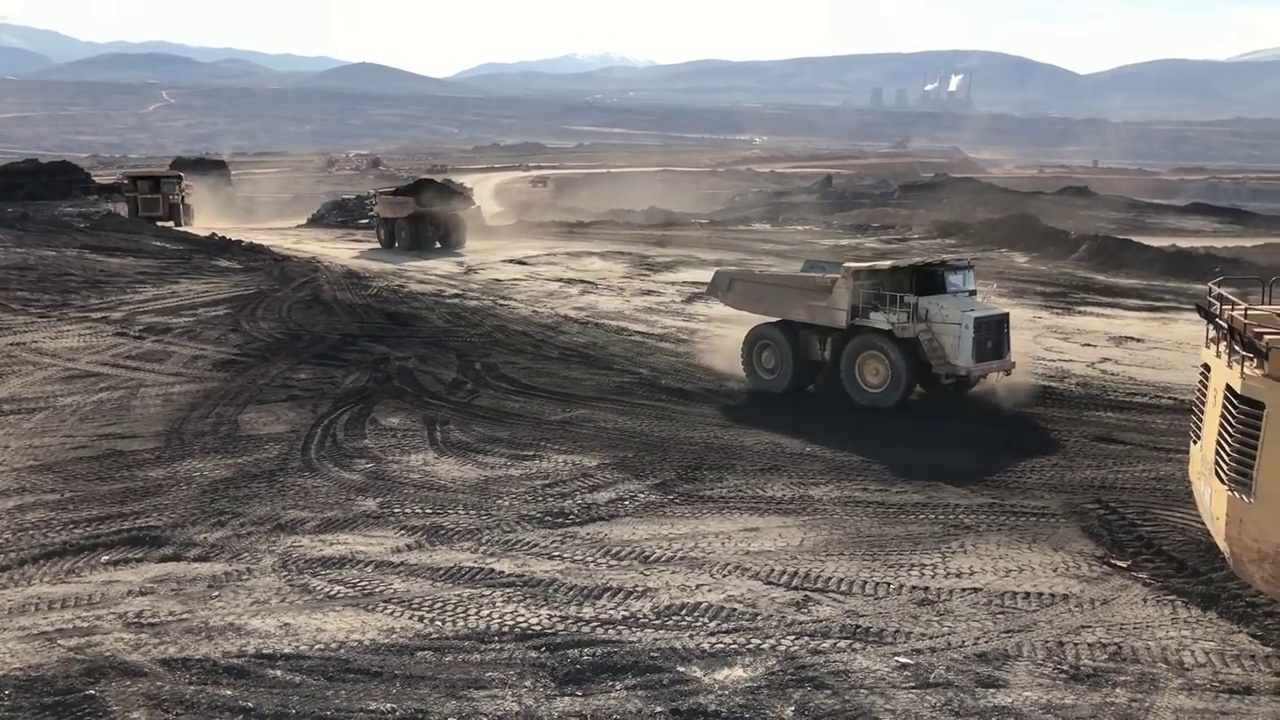dumper: (702, 257, 1017, 408), (366, 182, 478, 252), (120, 163, 189, 222)
